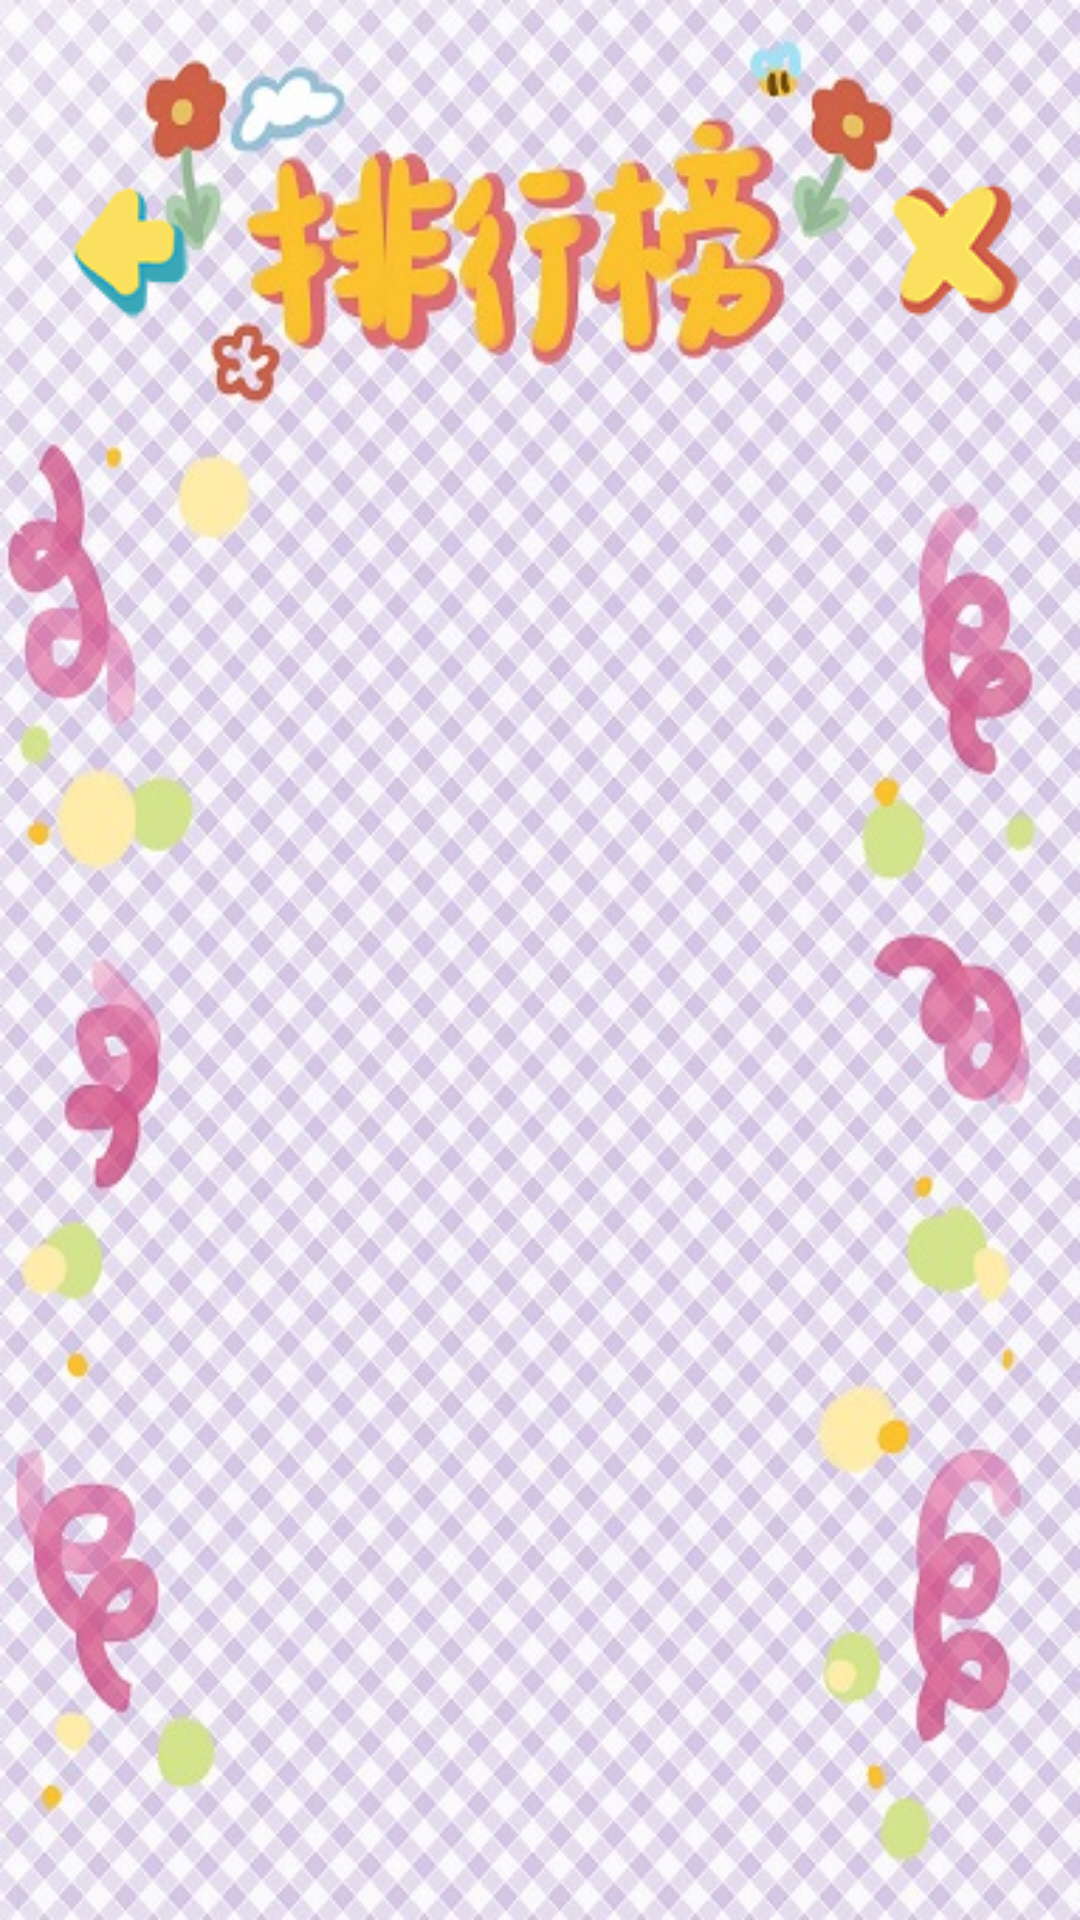

Point at icon controls on the screen. Image size 1080x1920, points as (x,y).
delete: (954,254)
